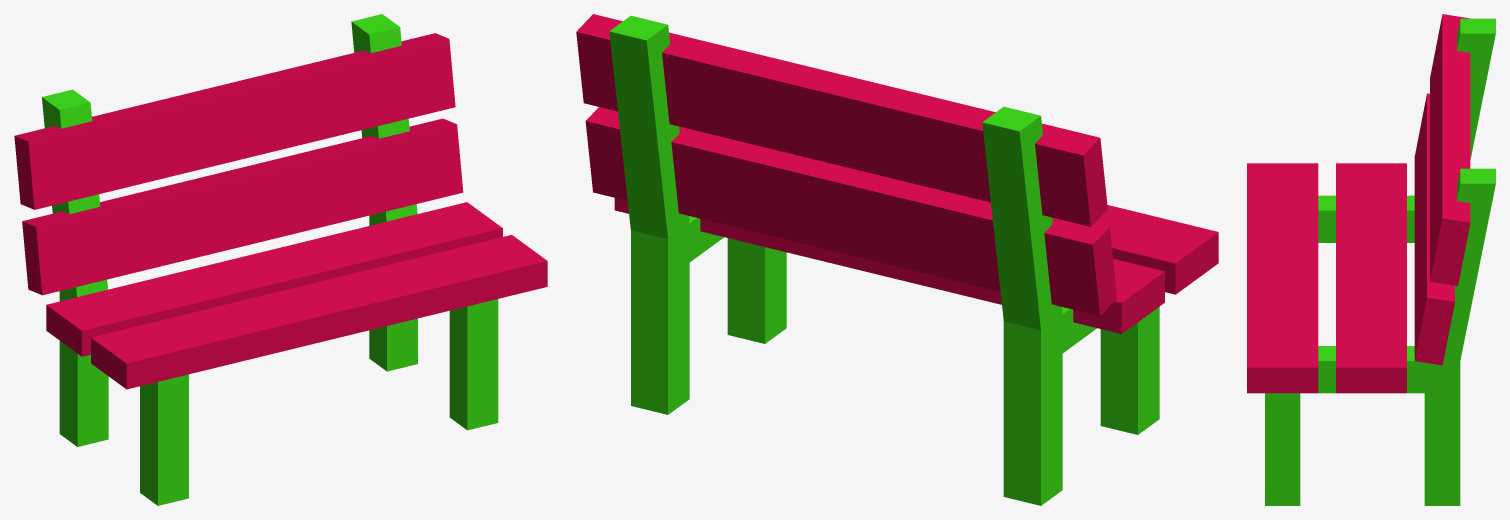
Rendered from Bench.fbx.
3 renders of one model, left to right at view 1: azimuth 30°, elevation 25°; view 2: azimuth 150°, elevation 25°; view 3: azimuth 270°, elevation 25°, orthographic. The views are drawn at different scales.
Parts seen in each view (by area): view 1: METAL1; view 2: METAL1; view 3: METAL1.
Part boxes in pixels (bbox=[...]): METAL1: bbox=[14, 14, 547, 505]; METAL1: bbox=[576, 14, 1218, 505]; METAL1: bbox=[1247, 14, 1495, 505].
Bounding box in the file's own units: 272 × 200 × 140.
